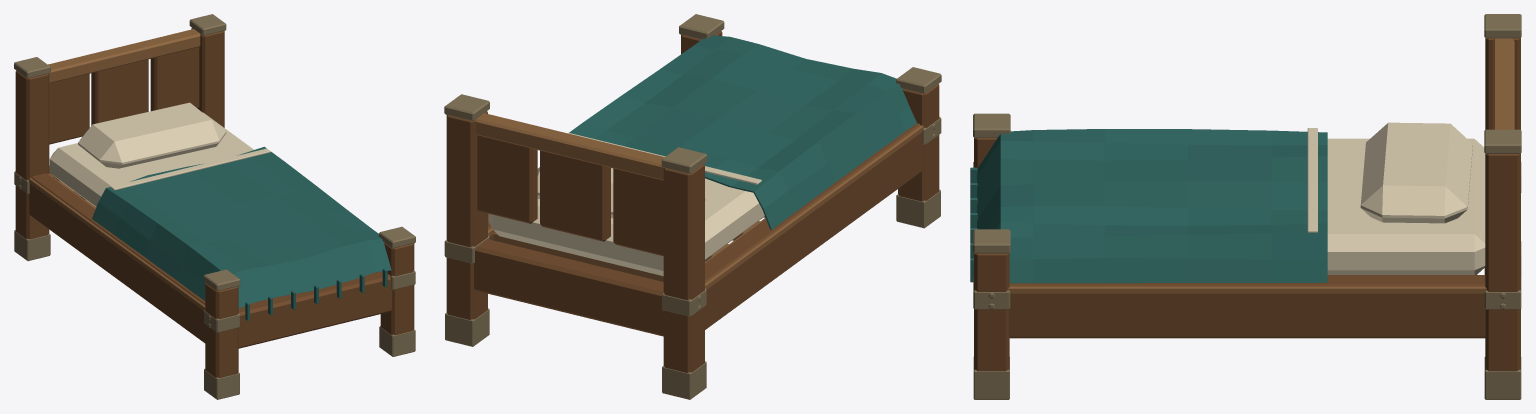
Rendered from starter_bed.glb.
The picture shows the model from 3 angles, left to right: view 1: azimuth 30°, elevation 25°; view 2: azimuth 150°, elevation 25°; view 3: azimuth 270°, elevation 25°; orthographic projection. The views are drawn at different scales.
Visible parts, largest first — view 1: 01_Oiled_warm_timber, 05_Faded_teal_wool, 04_Unbleached_ticking, 03_Weathered_bronze, 02_Timber_cut_faces; view 2: 01_Oiled_warm_timber, 05_Faded_teal_wool, 03_Weathered_bronze, 02_Timber_cut_faces, 04_Unbleached_ticking; view 3: 05_Faded_teal_wool, 01_Oiled_warm_timber, 04_Unbleached_ticking, 03_Weathered_bronze, 02_Timber_cut_faces.
Boxes of the visible parts, <box> form: 01_Oiled_warm_timber: <box>15,28,414,378</box>; 05_Faded_teal_wool: <box>92,146,391,320</box>; 04_Unbleached_ticking: <box>49,102,270,206</box>; 03_Weathered_bronze: <box>14,14,415,399</box>; 02_Timber_cut_faces: <box>28,29,205,310</box>; 01_Oiled_warm_timber: <box>446,31,939,372</box>; 05_Faded_teal_wool: <box>569,35,916,229</box>; 03_Weathered_bronze: <box>444,14,941,399</box>; 02_Timber_cut_faces: <box>476,113,923,289</box>; 04_Unbleached_ticking: <box>488,133,764,276</box>; 05_Faded_teal_wool: <box>970,129,1327,283</box>; 01_Oiled_warm_timber: <box>974,38,1520,371</box>; 04_Unbleached_ticking: <box>1307,122,1485,274</box>; 03_Weathered_bronze: <box>973,14,1521,399</box>; 02_Timber_cut_faces: <box>1008,38,1514,293</box>.
Size of the model in its own units: 1.05 by 0.95 by 1.86.
